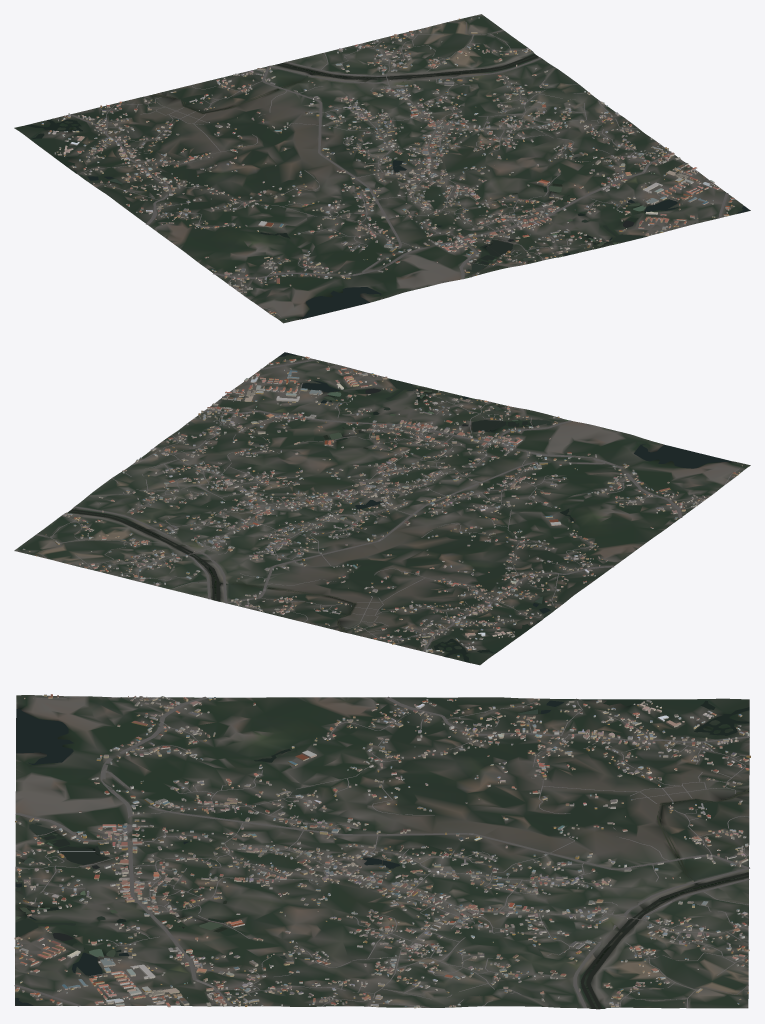
3 views of the same model, one above another, from view 1: azimuth 30°, elevation 25°; view 2: azimuth 150°, elevation 25°; view 3: azimuth 270°, elevation 25° (orthographic). The views are drawn at different scales.
Parts seen in each view (by area): view 1: ground, buildings, roads, water; view 2: ground, buildings, roads, water; view 3: ground, buildings, roads, water.
Boxes of the visible parts, x1,y1,x2,y2 form: ground: (14, 14, 750, 323); buildings: (41, 17, 734, 319); roads: (70, 21, 728, 316); water: (25, 54, 749, 318); ground: (14, 355, 750, 665); buildings: (22, 356, 742, 657); roads: (37, 359, 739, 651); water: (68, 352, 730, 662); ground: (15, 695, 749, 1009); buildings: (14, 694, 750, 1008); roads: (14, 696, 749, 1008); water: (15, 699, 749, 1008).
Size of the model in its own units: 2820 by 33.22 by 2817.
